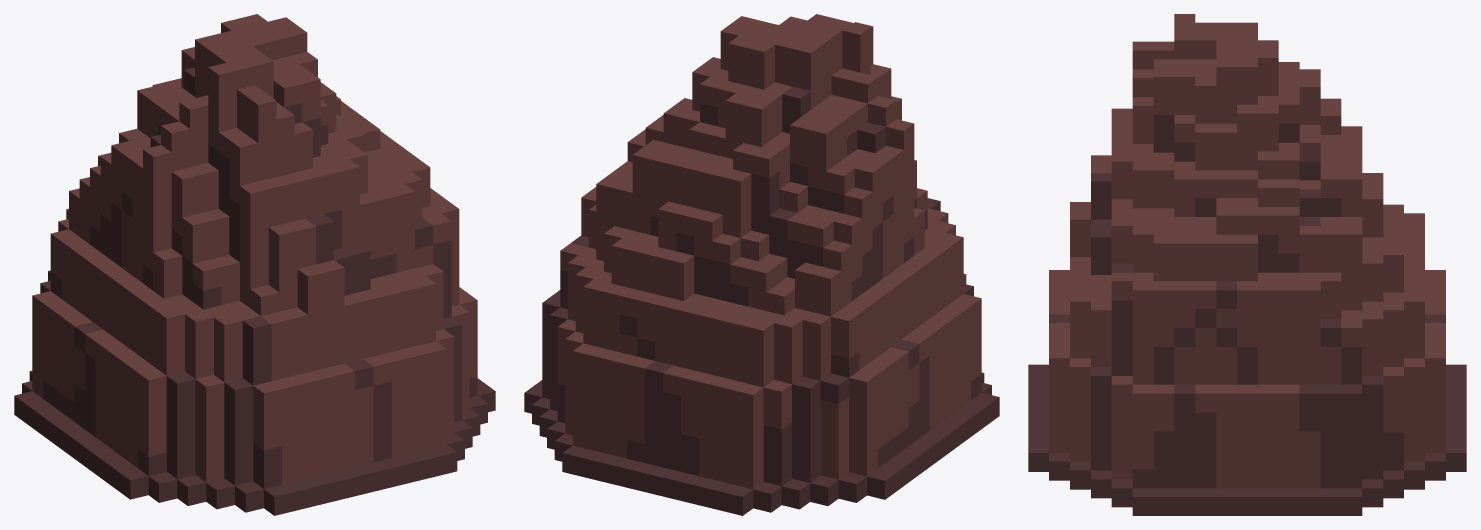
The model's file is wall_middle.obj.
3 views of the same model, side by side, from view 1: azimuth 30°, elevation 25°; view 2: azimuth 150°, elevation 25°; view 3: azimuth 270°, elevation 25° (orthographic).
Size of the model in its own units: 20 by 20 by 21.
1 material, 1 textured.
